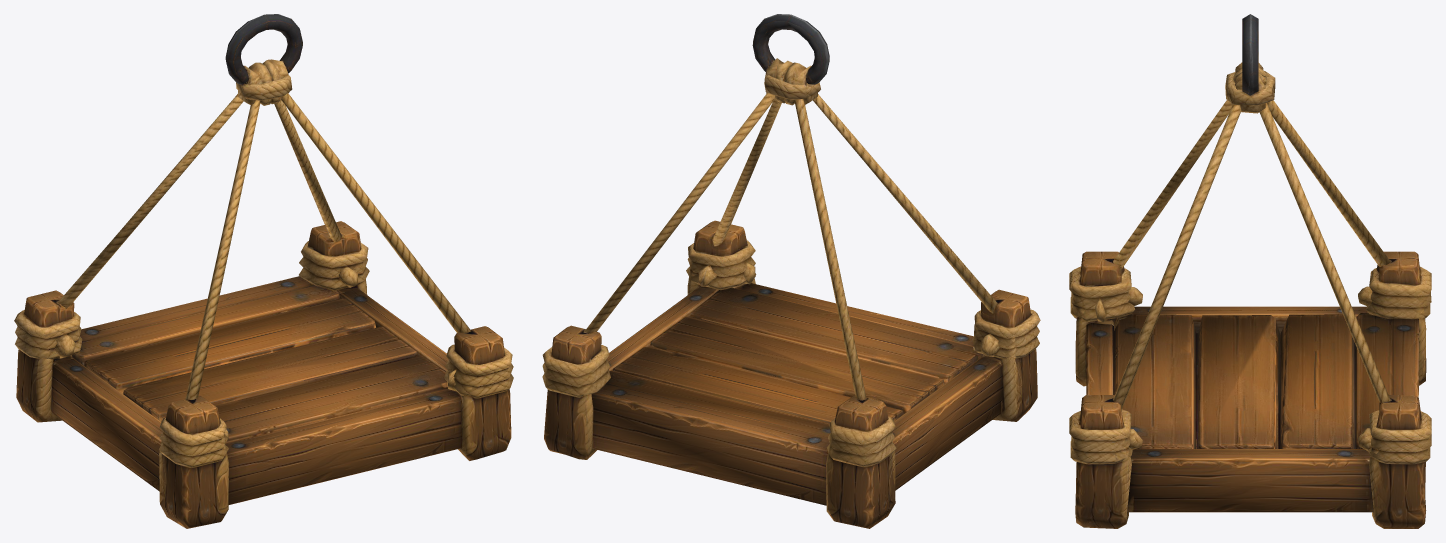
File: Lift.fbx
The picture shows the model from 3 angles, left to right: view 1: azimuth 30°, elevation 25°; view 2: azimuth 150°, elevation 25°; view 3: azimuth 270°, elevation 25°; orthographic projection. The views are drawn at different scales.
Visible parts, largest first — view 1: Lift; view 2: Lift; view 3: Lift.
Part boxes in pixels (left/top/right/bottom): Lift: left=14, top=14, right=513, bottom=528; Lift: left=542, top=14, right=1040, bottom=528; Lift: left=1069, top=14, right=1431, bottom=528.
Size of the model in its own units: 1.71 by 2 by 1.53.
1 material, 1 textured.
